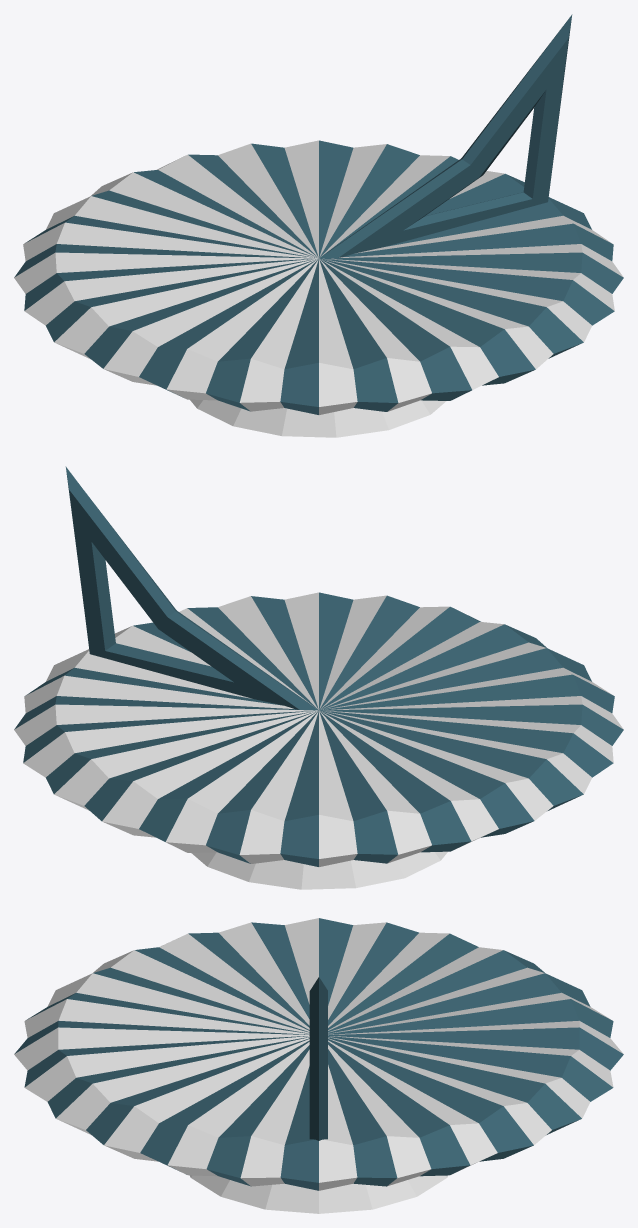
The model's file is Cadran.fbx.
The picture shows the model from 3 angles, top to bottom: view 1: azimuth 30°, elevation 25°; view 2: azimuth 150°, elevation 25°; view 3: azimuth 270°, elevation 25°; orthographic projection.
Visible parts, largest first — view 1: Cylinder; view 2: Cylinder; view 3: Cylinder.
Boxes of the visible parts, x1,y1,x2,y2 form: Cylinder: (14, 14, 623, 437); Cylinder: (14, 466, 623, 889); Cylinder: (14, 918, 623, 1213).
Size of the model in its own units: 321 by 176 by 322.
